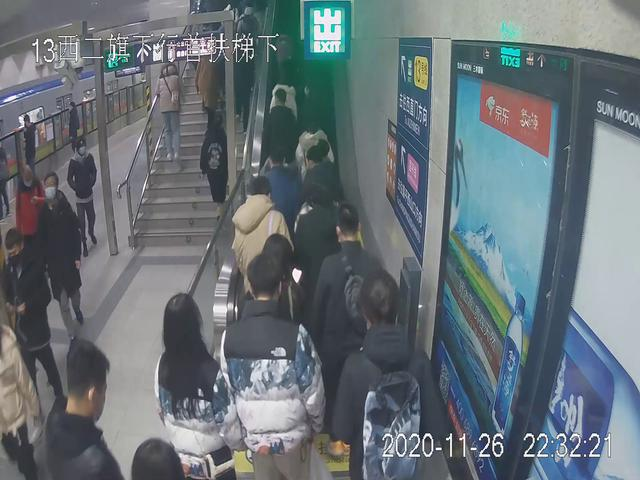person: (334, 272, 447, 474), (223, 258, 325, 480), (147, 288, 247, 473), (44, 333, 129, 480), (34, 173, 82, 332), (235, 180, 296, 292), (66, 136, 99, 256), (201, 110, 232, 226), (151, 54, 181, 160)
